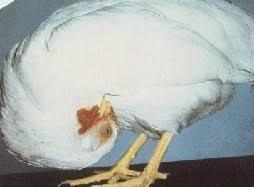AbNormal: (5, 4, 254, 187)
